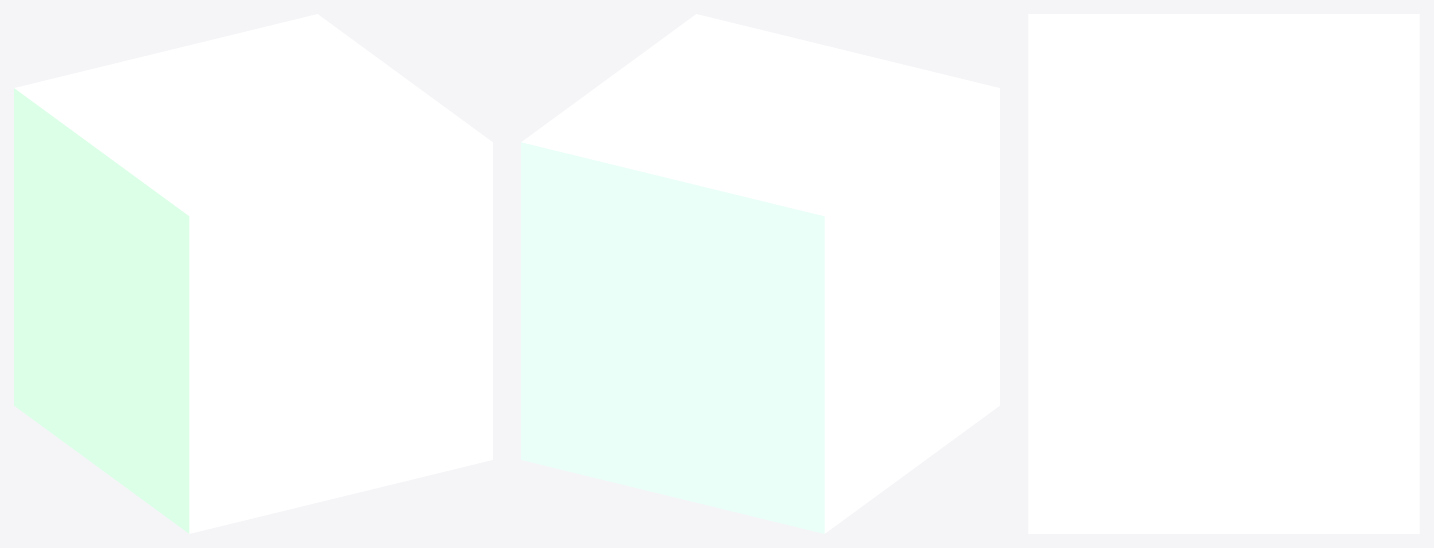
The model's file is interact_buff_hull.glb.
3 renders of one model, left to right at view 1: azimuth 30°, elevation 25°; view 2: azimuth 150°, elevation 25°; view 3: azimuth 270°, elevation 25°, orthographic. The views are drawn at different scales.
Visible parts, largest first — view 1: interact_buff_hull; view 2: interact_buff_hull; view 3: interact_buff_hull.
Part boxes in pixels (bbox=[...]): interact_buff_hull: bbox=[14, 14, 492, 533]; interact_buff_hull: bbox=[521, 14, 999, 533]; interact_buff_hull: bbox=[1028, 14, 1419, 533].
Size of the model in its own units: 0.95 by 0.95 by 0.95.
